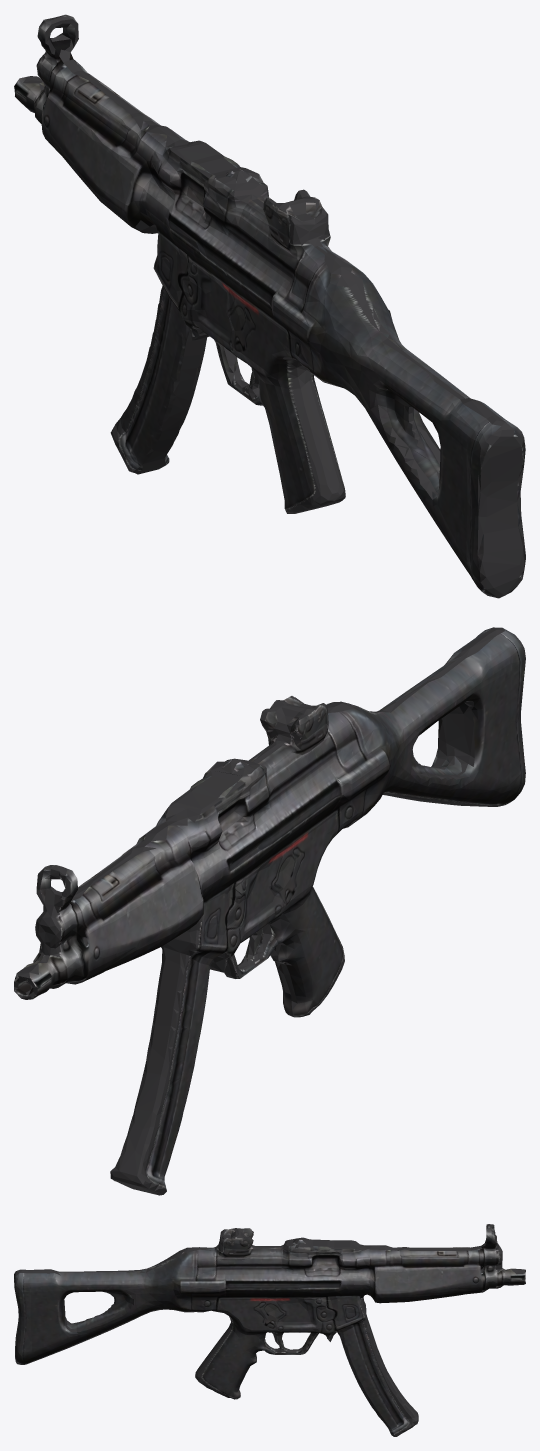
3 renders of one model, top to bottom at view 1: azimuth 30°, elevation 25°; view 2: azimuth 150°, elevation 25°; view 3: azimuth 270°, elevation 25°, orthographic. The views are drawn at different scales.
Visible parts, largest first — view 1: Mesh_0; view 2: Mesh_0; view 3: Mesh_0.
Boxes of the visible parts, x1,y1,x2,y2 form: Mesh_0: (14,14,525,598); Mesh_0: (14,627,525,1195); Mesh_0: (14,1224,525,1436).
Bounding box in the file's own units: 0.0688 × 0.3056 × 0.68.
Materials: 1 (1 with a texture image).
